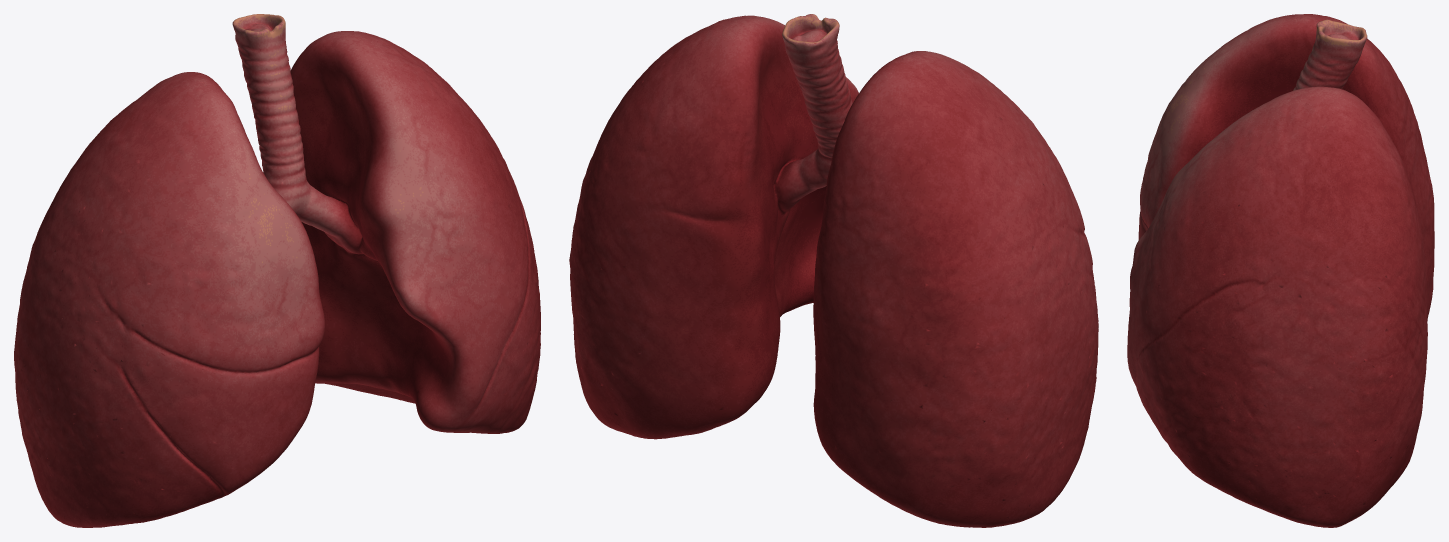
The model's file is Pulmones.glb.
The picture shows the model from 3 angles, left to right: view 1: azimuth 30°, elevation 25°; view 2: azimuth 150°, elevation 25°; view 3: azimuth 270°, elevation 25°; orthographic projection. The views are drawn at different scales.
Visible parts, largest first — view 1: world; view 2: world; view 3: world.
Part boxes in pixels (x1,y1,x2,y2): world: (14, 14, 540, 527); world: (569, 14, 1098, 527); world: (1127, 14, 1434, 527).
Bounding box in the file's own units: 1 × 0.9096 × 0.618.
Materials: 1 (1 with a texture image).
